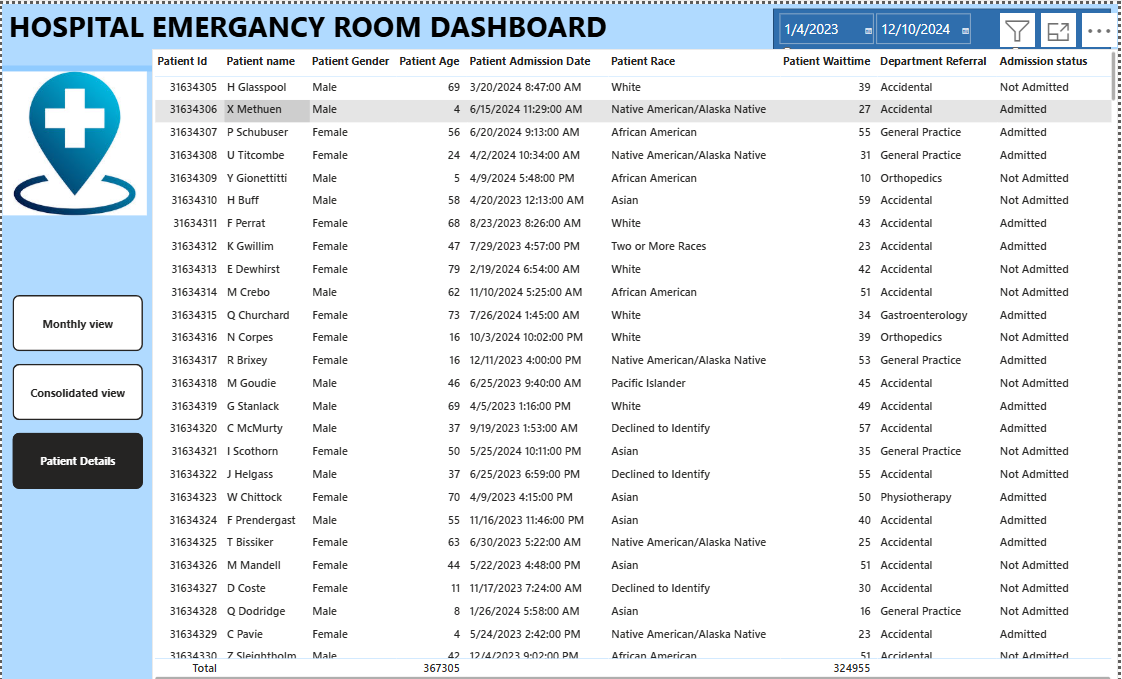

Layout of this report page (visuals, bound fields, positions):
{"tool":"powerbi","page":{"name":"Patient Details","canvas":[2300,1400],"ordinal":2},"visuals":[{"type":"shape","box":[0,126.8,309.3,1274.3],"z":0},{"type":"shape","box":[0,0,2301.1,139.2],"z":1000},{"type":"textbox","box":[9.3,0,1611.4,92.8],"z":2000},{"type":"slicer","fields":{"Values":["Data Table.Date"]},"box":[1589.7,9.3,695.9,117.5],"z":3000},{"type":"textbox","box":[309.3,92.8,399,74.2],"z":4000},{"type":"image","box":[0,139.2,300,296.9],"z":5000},{"type":"tableEx","fields":{"Values":["Hospital ER_Data.Patient Id","Hospital ER_Data.Patient full name","Hospital ER_Data.Patient Gender","Sum(Hospital ER_Data.Patient Age)","Hospital ER_Data.Patient Admission Date","Hospital ER_Data.Patient Race","Sum(Hospital ER_Data.Patient Waittime)","Hospital ER_Data.Department Referral","Hospital ER_Data.Admission status"]},"box":[309.3,92.8,1991.8,1308.3],"z":6000},{"type":"pageNavigator","box":[21.6,600,269.1,402.1],"z":7000}]}

Visuals, with their boxes on the page's 2300x1400 design canvas (x1, y1, x2, y2). These are canvas units, not pixel positions in the 1122x679 screenshot, which may show the page scaled, cropped or inside an application window:
shape: x1=0 y1=127 x2=309 y2=1401
shape: x1=0 y1=0 x2=2301 y2=139
textbox: x1=9 y1=0 x2=1621 y2=93
slicer - Data Table.Date: x1=1590 y1=9 x2=2286 y2=127
textbox: x1=309 y1=93 x2=708 y2=167
image: x1=0 y1=139 x2=300 y2=436
tableEx - Hospital ER_Data.Patient Id x Hospital ER_Data.Patient full name: x1=309 y1=93 x2=2301 y2=1401
pageNavigator: x1=22 y1=600 x2=291 y2=1002
